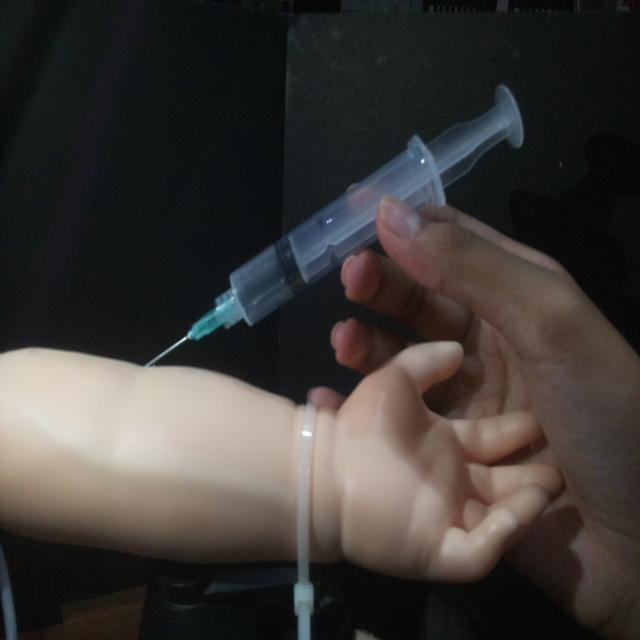27deg: (139, 78, 528, 370)
